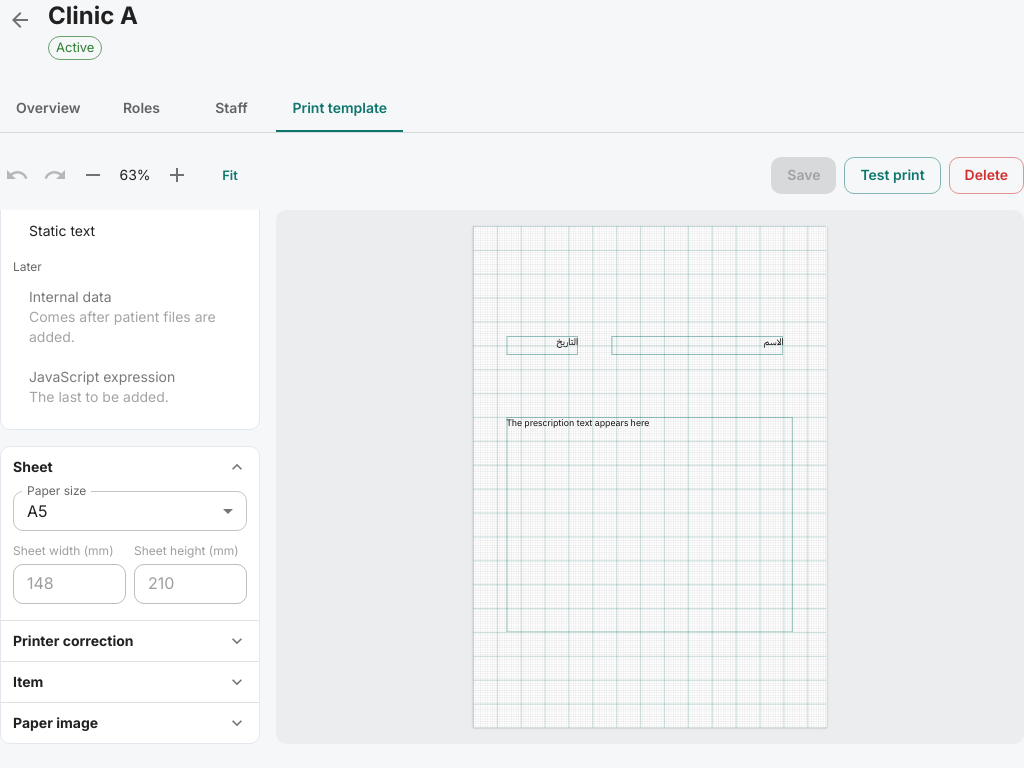
Test case: the correction is part of the layout @area:admin › X changed: Save turns on and leaving asks; undone: the value back, Save off and leaving asks nothing @TPL-613
The image size is (1024, 768).
(page scrolled)
Click the button "Printer correction": point(130, 640) top-left (1, 620), bottom-right (259, 660)
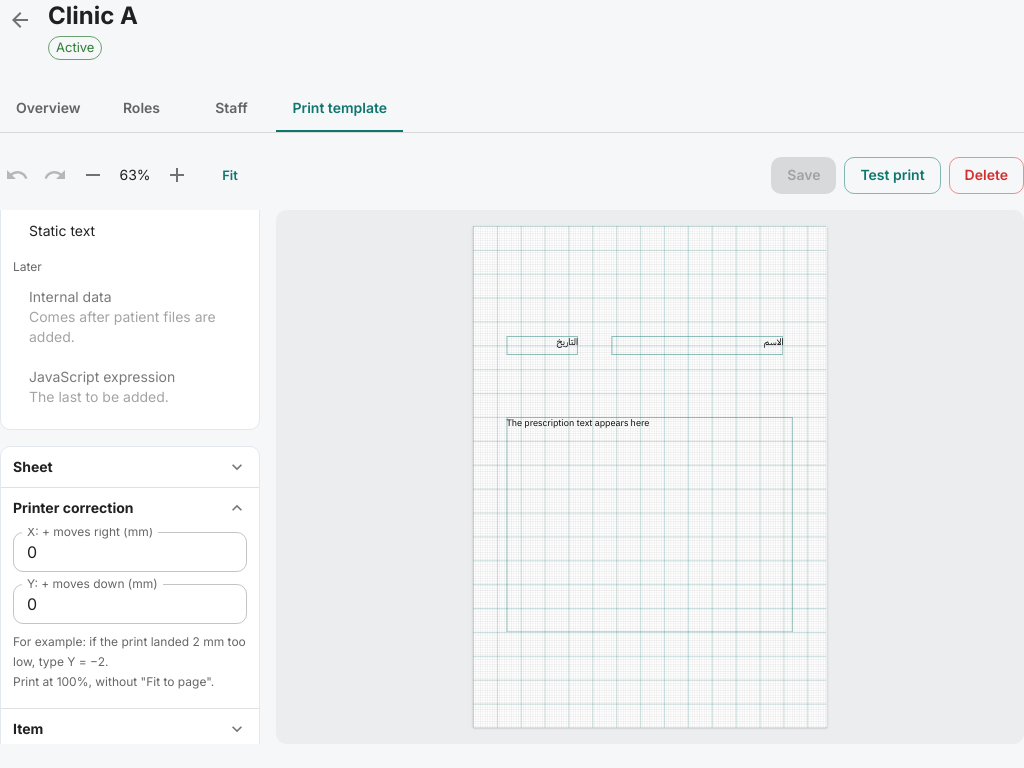
Replace the text in the field labelled "X: + moves right (mm)" with "2": point(130, 552) top-left (13, 532), bottom-right (247, 572)
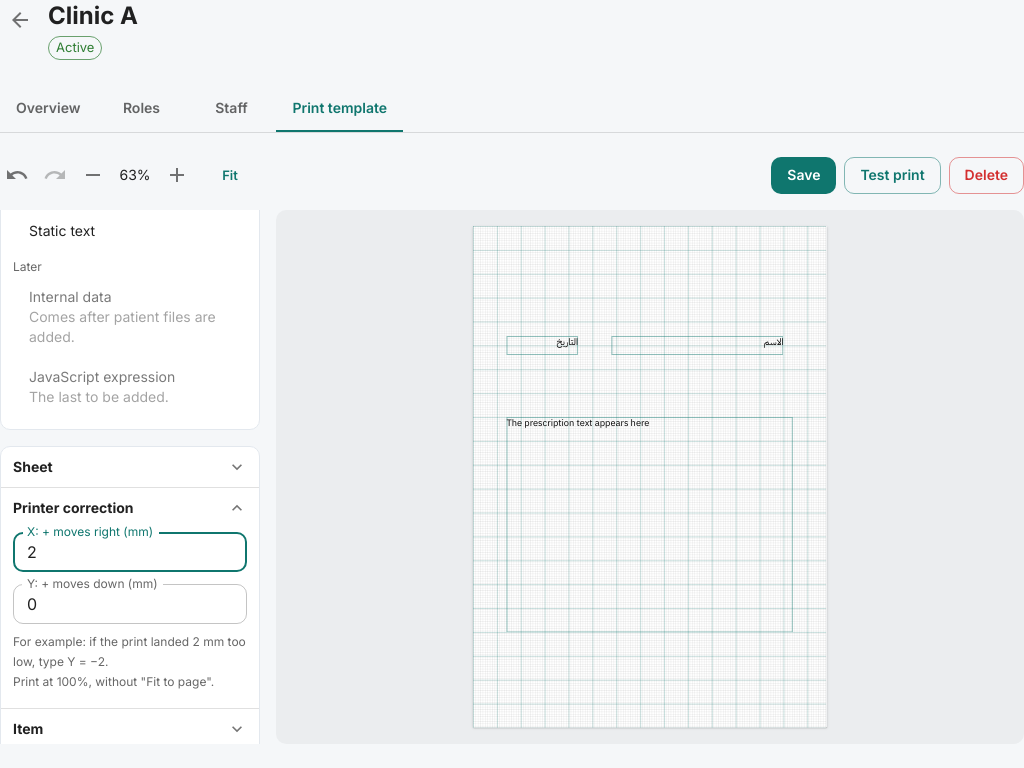
Press Tab
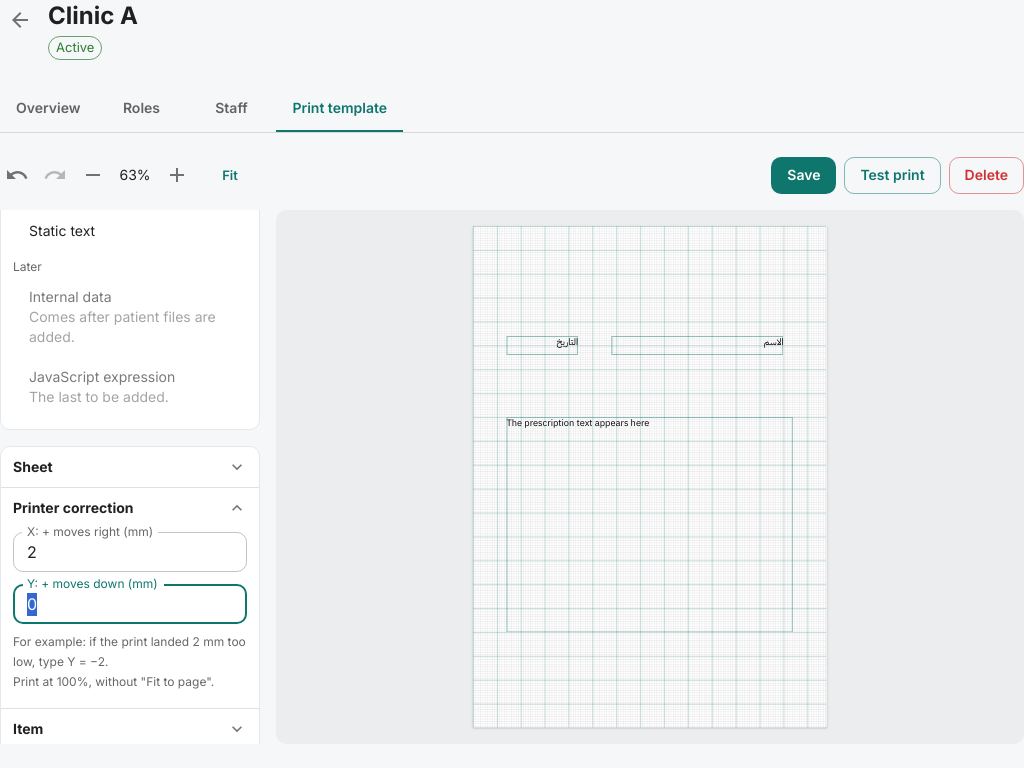
Check: the button "Save" is enabled, box top-left (771, 157), bottom-right (836, 194)
Click the tab "Overview": point(48, 108) top-left (16, 99), bottom-right (80, 116)
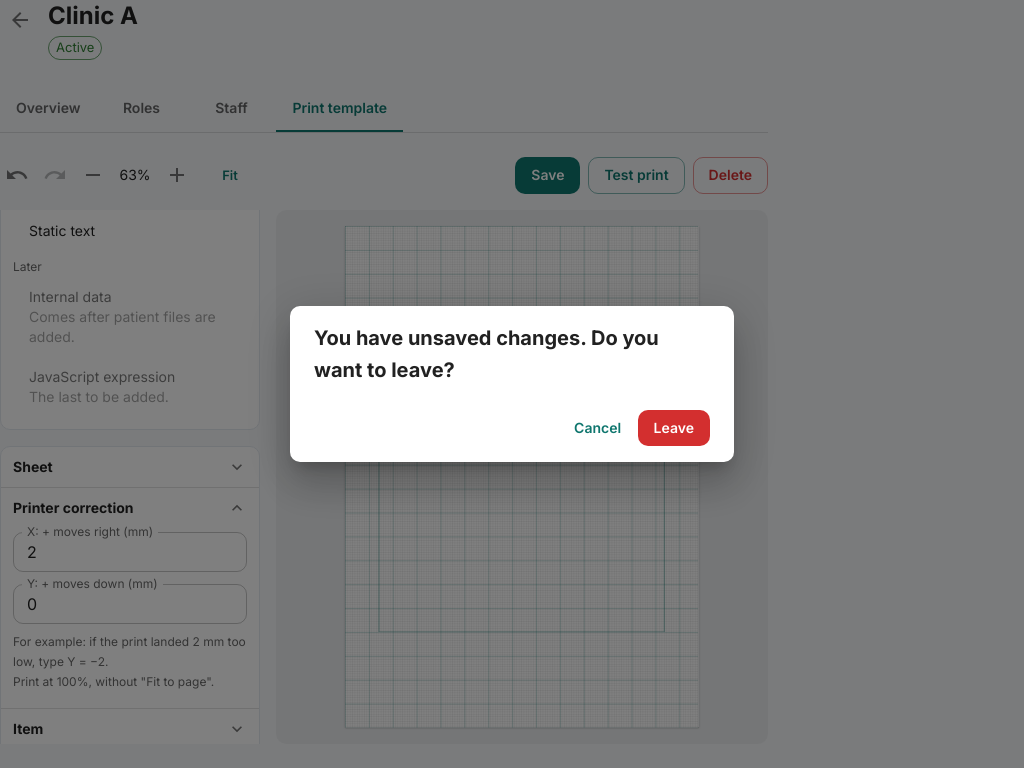
Click the button "Cancel": point(598, 428) top-left (566, 410), bottom-right (630, 446)
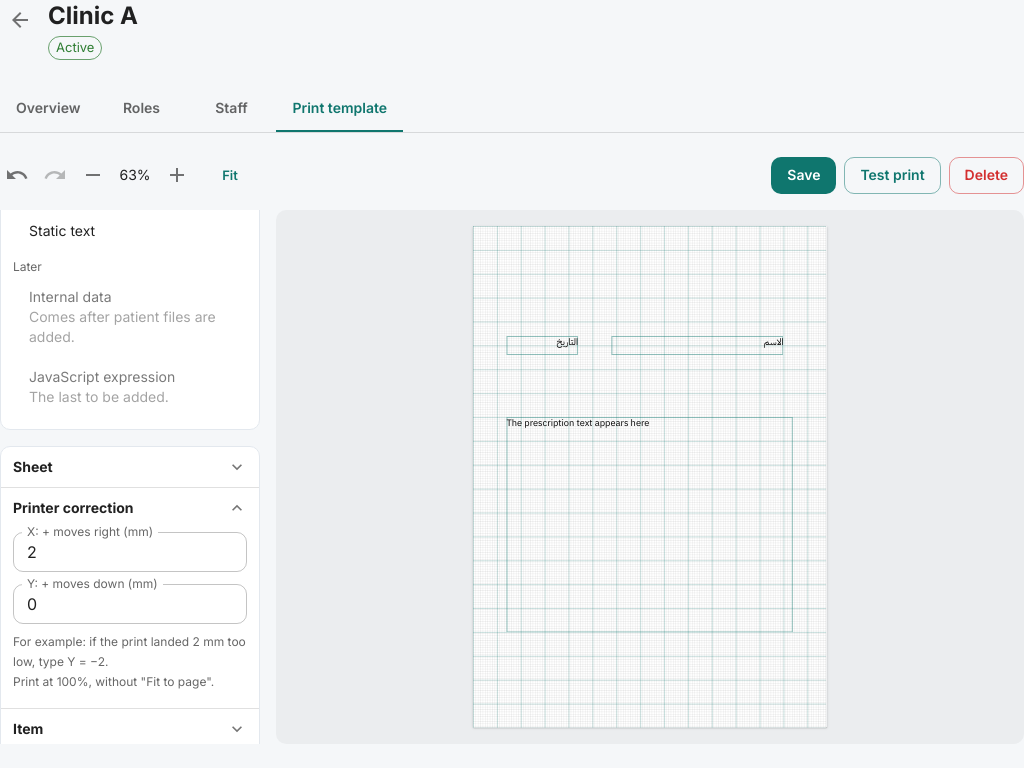
Click the button named "Undo": point(17, 175) top-left (0, 158), bottom-right (34, 192)
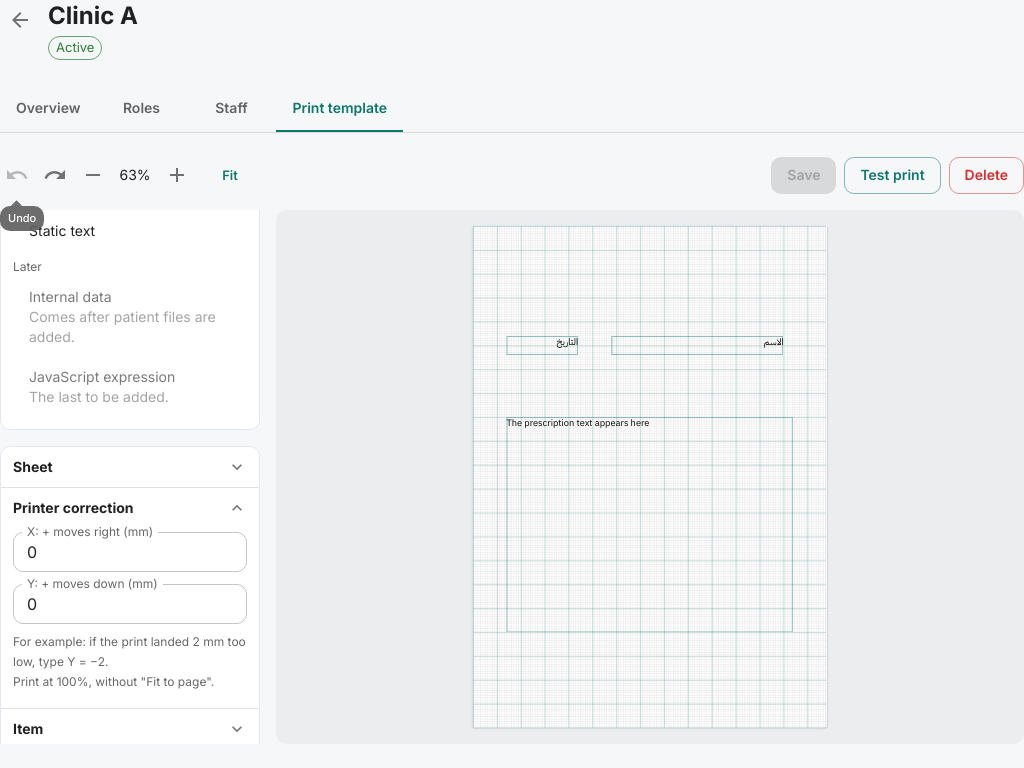
Check: the field labelled "X: + moves right (mm)" holds "0", box top-left (13, 532), bottom-right (247, 572)
Check: the button "Save" is disabled, box top-left (771, 157), bottom-right (836, 194)
